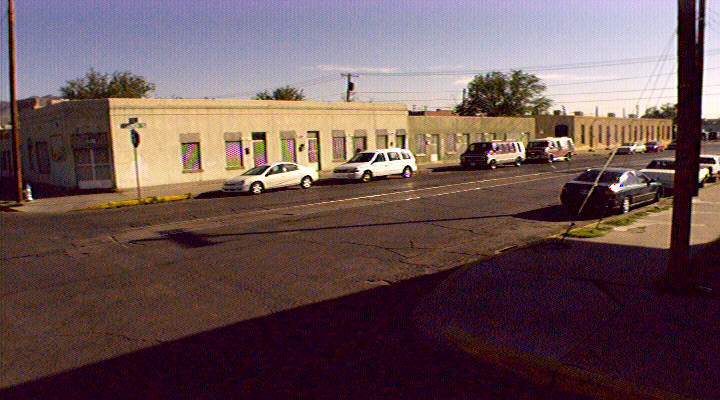Ramp: (396, 262, 560, 359), (14, 187, 104, 217)
